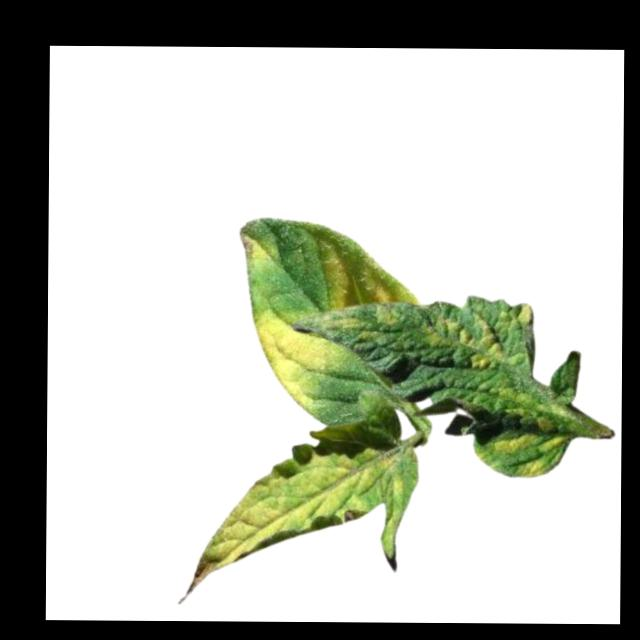Leaf_Mold: (203, 426, 407, 569), (251, 308, 346, 416), (320, 222, 425, 306), (424, 313, 501, 368), (494, 430, 565, 479), (320, 314, 377, 341), (241, 228, 278, 262), (377, 304, 399, 329), (516, 299, 534, 328)
